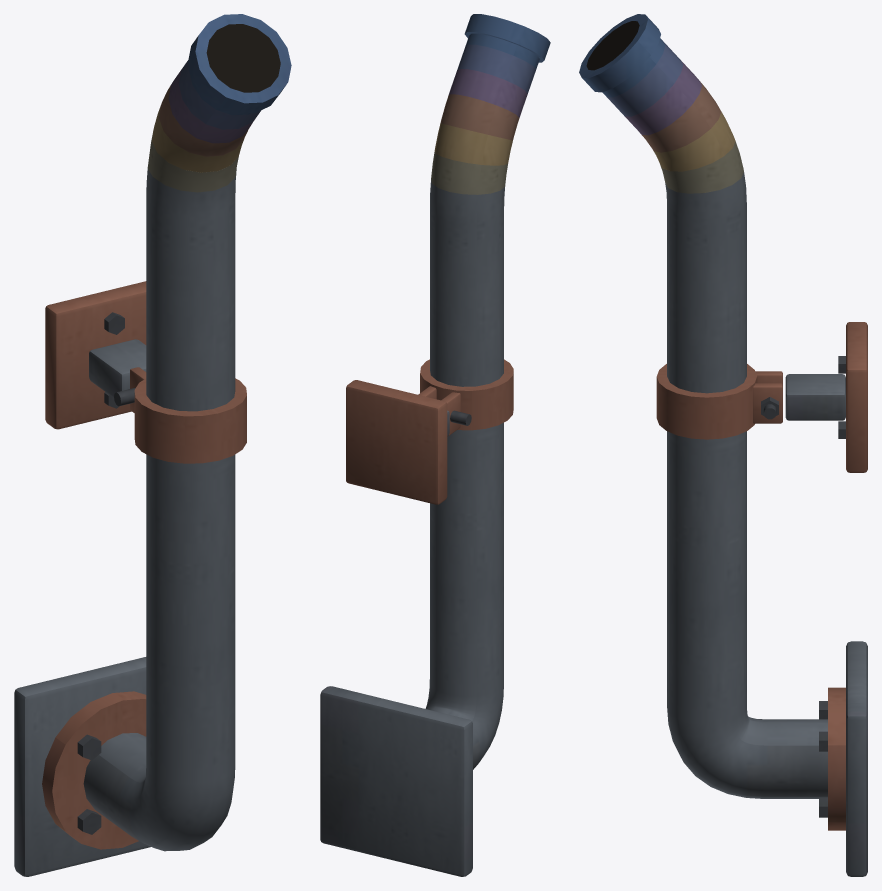
The model's file is exhaust_pipe.glb.
3 views of the same model, side by side, from view 1: azimuth 30°, elevation 25°; view 2: azimuth 150°, elevation 25°; view 3: azimuth 270°, elevation 25° (orthographic). The views are drawn at different scales.
Visible parts, largest first — view 1: ExhaustPipeBody; view 2: ExhaustPipeBody; view 3: ExhaustPipeBody.
Boxes of the visible parts, <box> form: ExhaustPipeBody: <box>14,14,291,876</box>; ExhaustPipeBody: <box>320,14,550,876</box>; ExhaustPipeBody: <box>579,14,867,876</box>.
Size of the model in its own units: 0.14 by 0.7036 by 0.2243.
10 materials, 9 textured.
